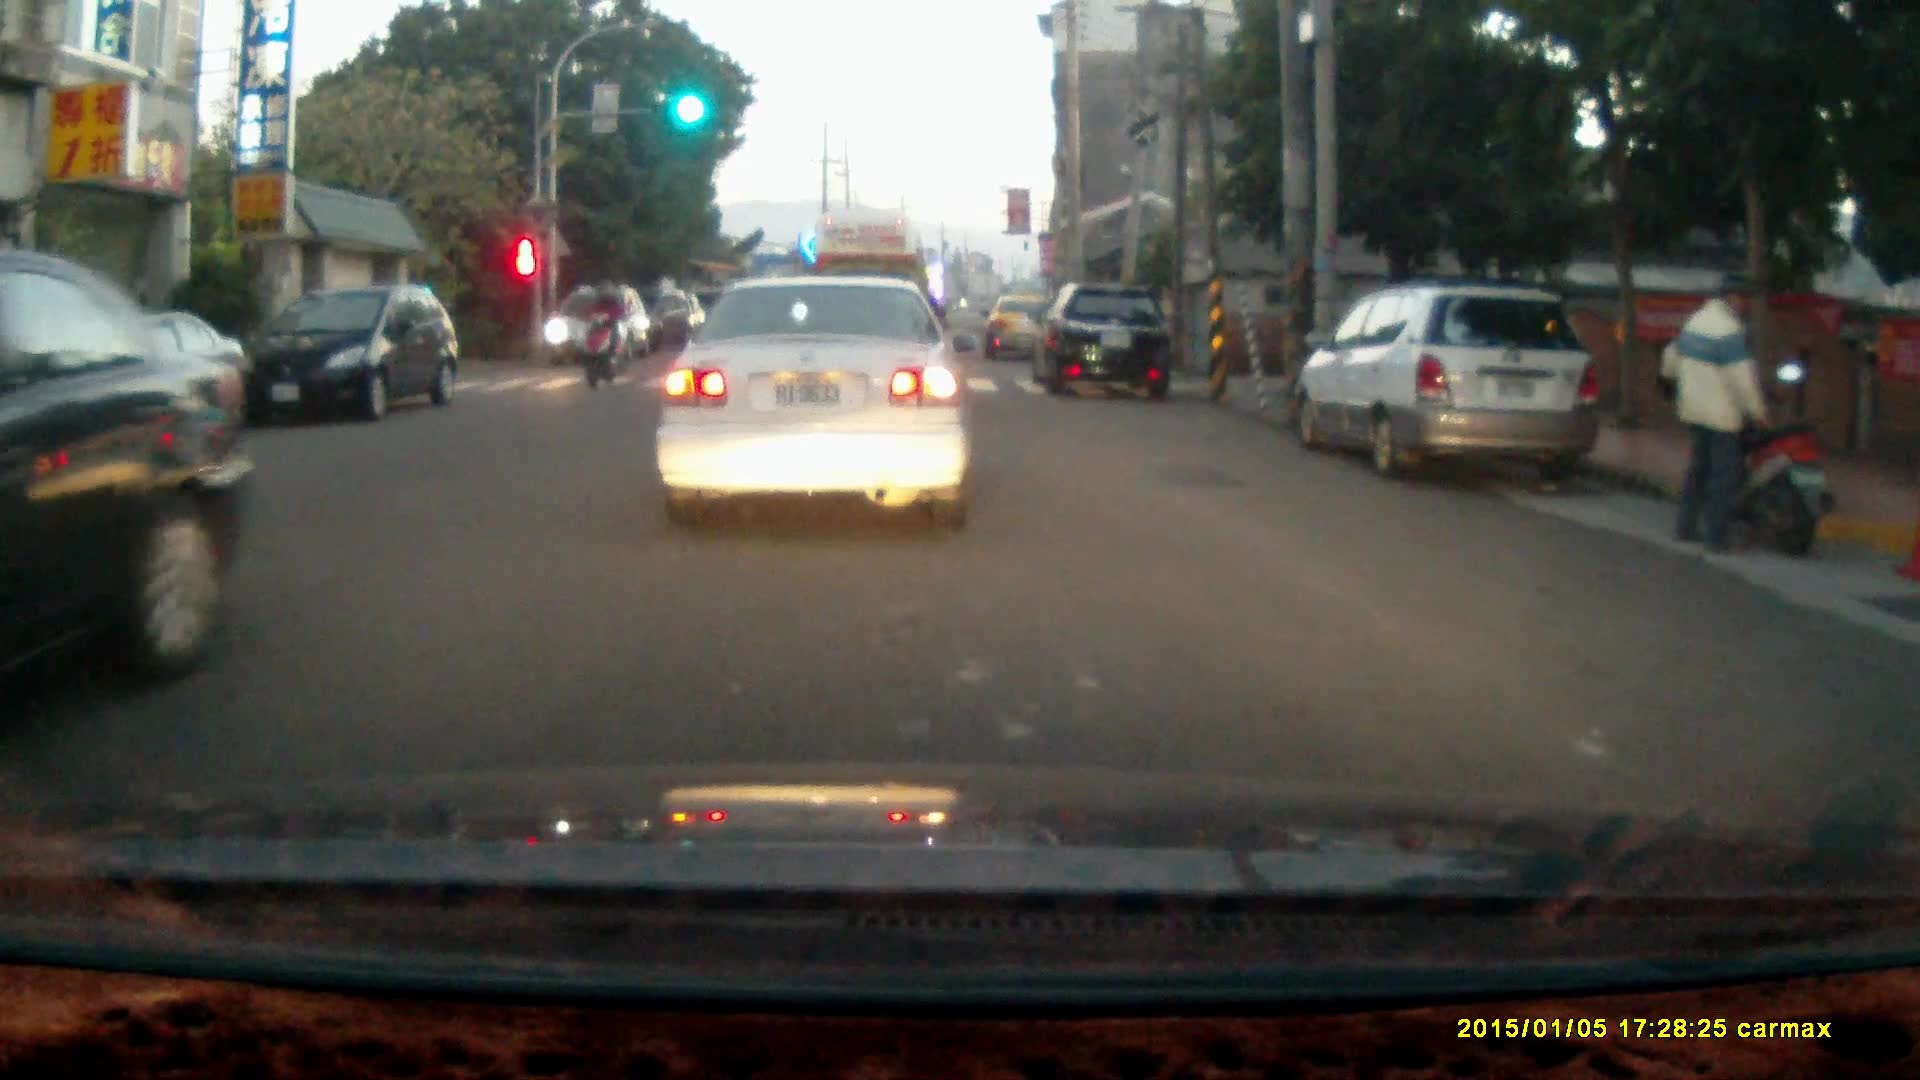pedestrian: (1657, 268, 1765, 554)
rider: (578, 276, 619, 384)
vehicle: (1, 253, 267, 694), (655, 272, 976, 525), (1305, 283, 1598, 481), (225, 284, 461, 420), (814, 204, 930, 366), (1032, 277, 1179, 395), (546, 283, 652, 359), (978, 294, 1070, 365)
